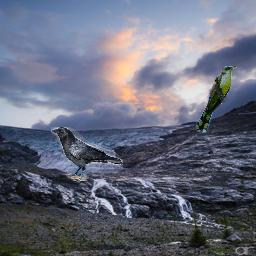Crow: (51, 127, 123, 181)
Cuckoo: (196, 66, 237, 133)
